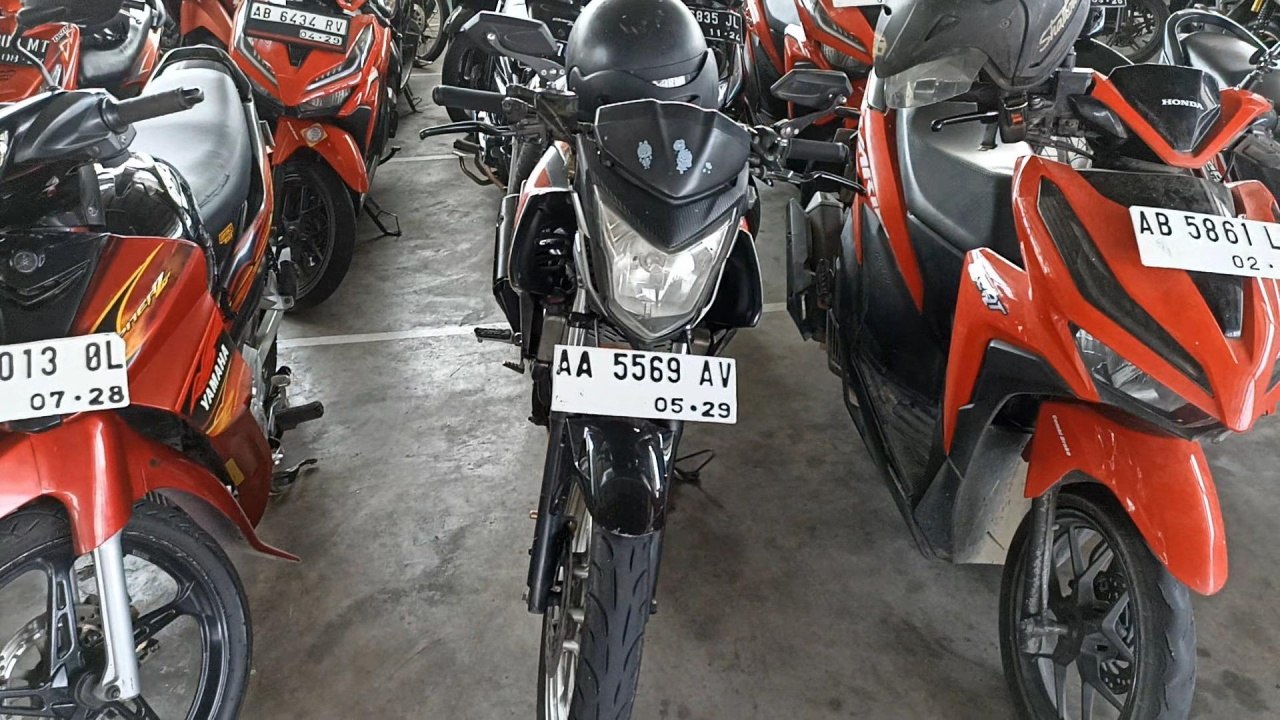plate: (553, 346, 736, 423), (246, 0, 350, 52)
